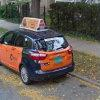Car: (3, 14, 80, 87)
